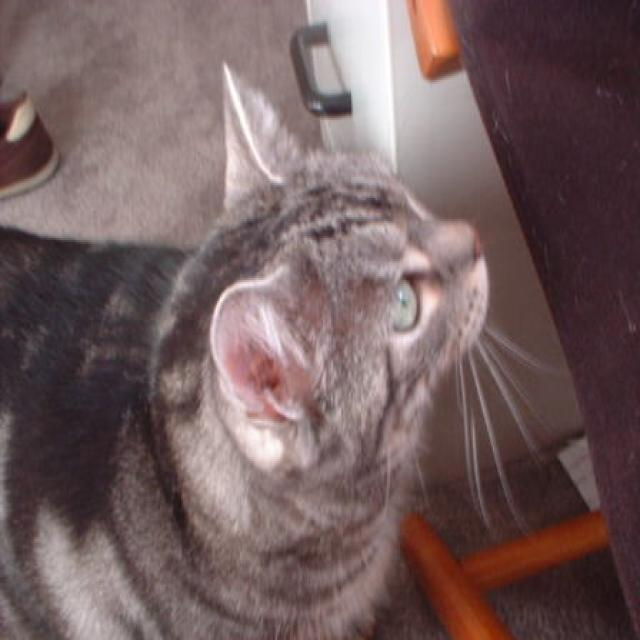cat: (1, 60, 490, 639)
